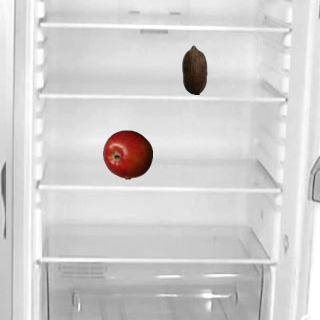Apple Braeburn: (102, 129, 152, 179)
Nut Pecan: (169, 44, 219, 94)
